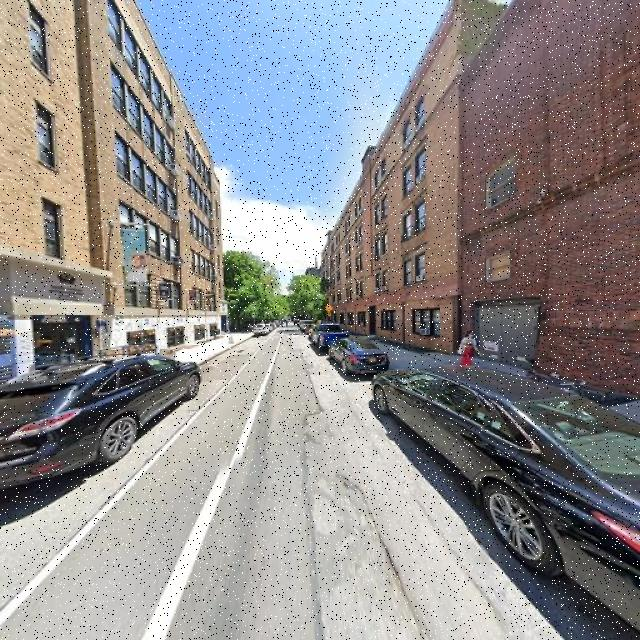Building: (1, 1, 223, 395), (463, 1, 640, 407), (323, 1, 456, 359)
